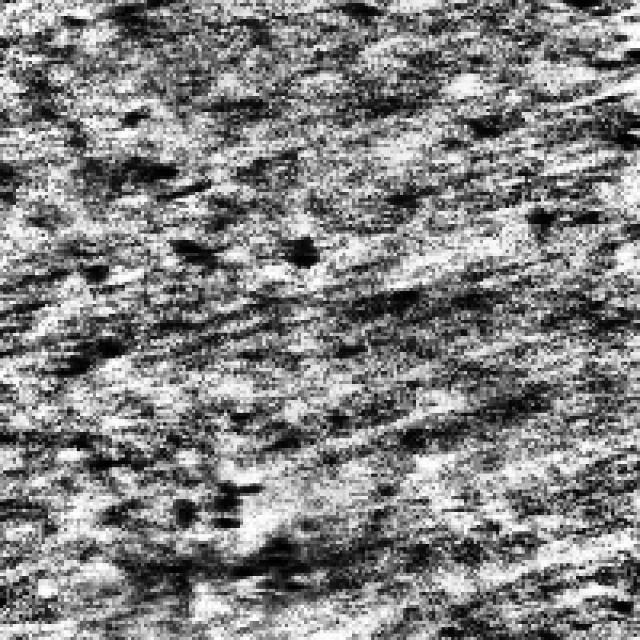Crazing: (16, 156, 310, 372), (29, 413, 308, 611)
